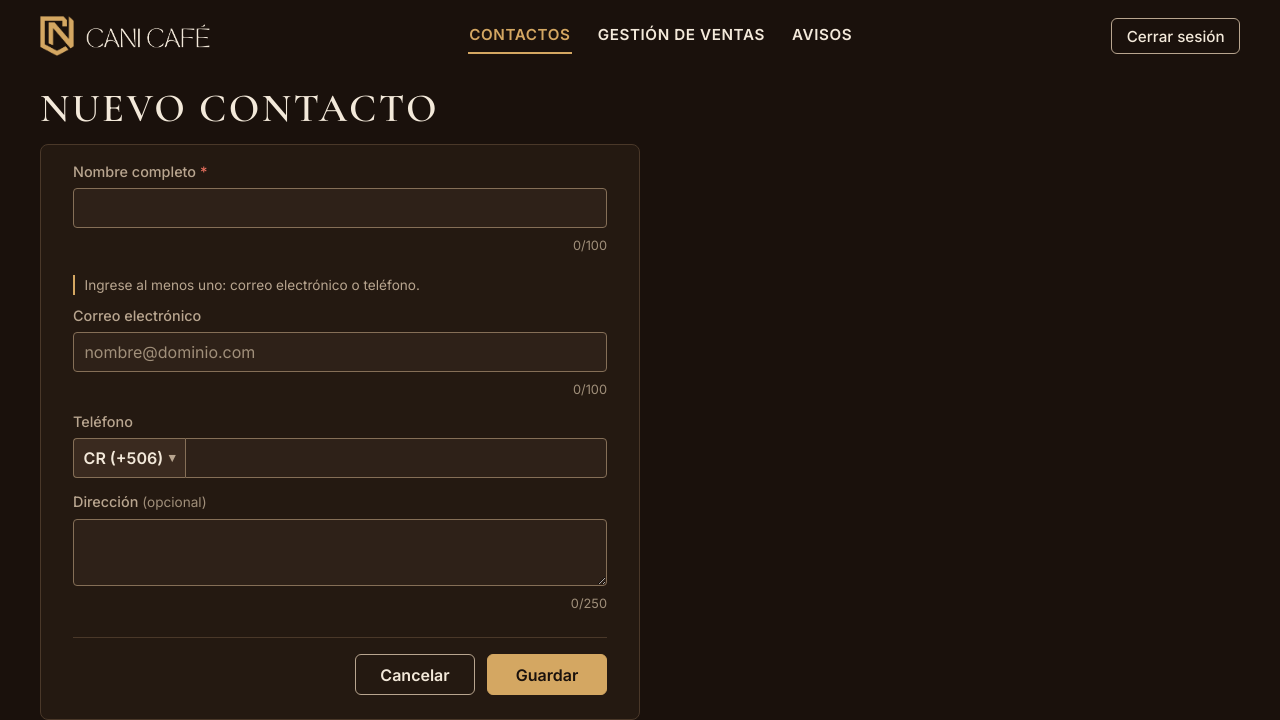
Test case: HU-202 Teléfonos de Costa Rica y de otros países › el buscador encuentra "estados"
Click the button with aria-label "País del teléfono".
click(129, 458)  # box [73,438,185,478]
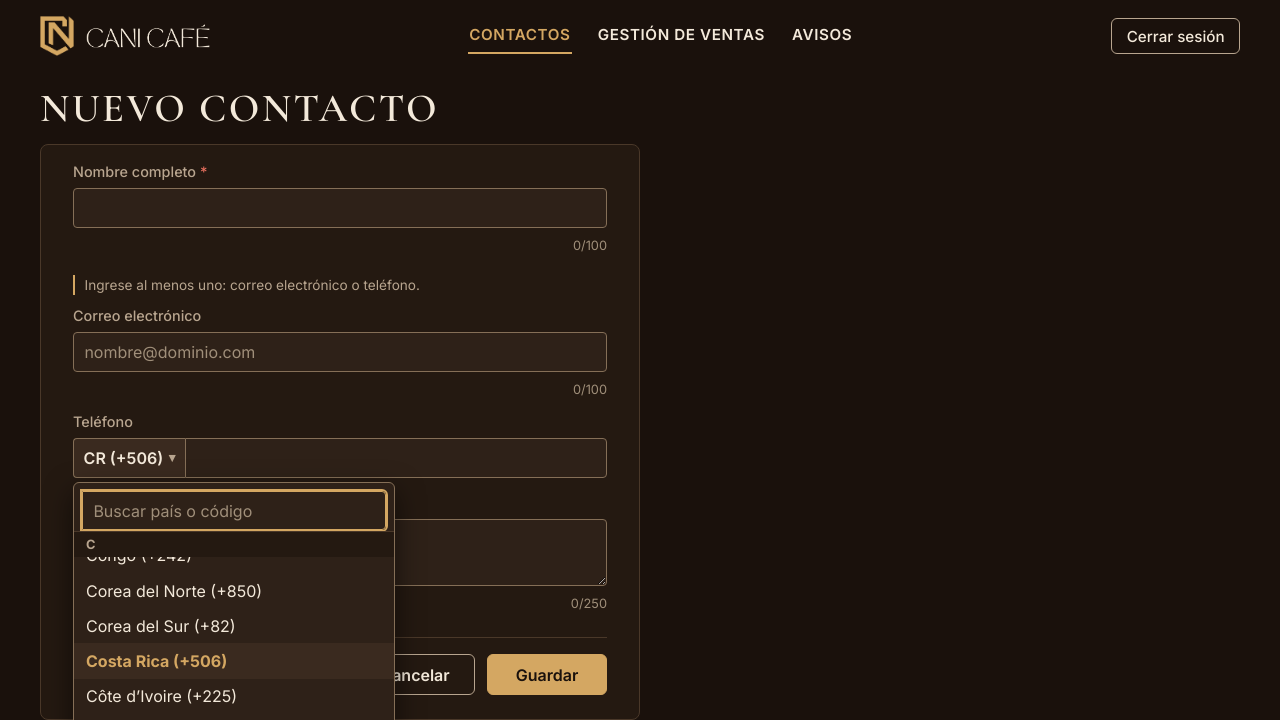
Type "estados" into the dropdown labelled "Buscar país".
click(234, 510); type("estados")  # box [82,491,386,530]
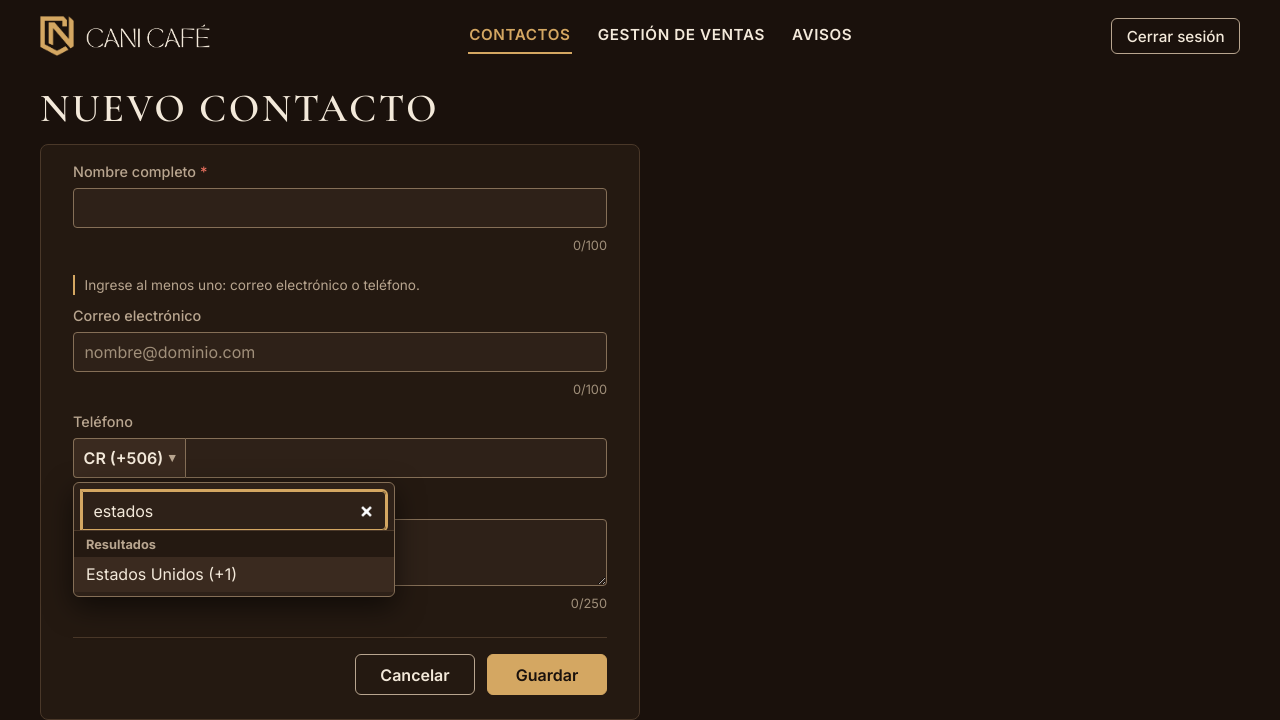
Check: the option "Estados Unidos (+1)" is shown, box [74,557,394,592]
